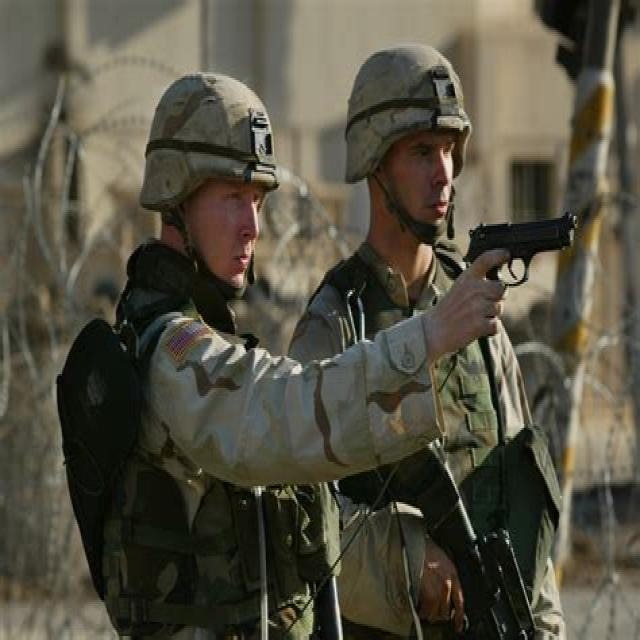weapons: (449, 204, 590, 339)
